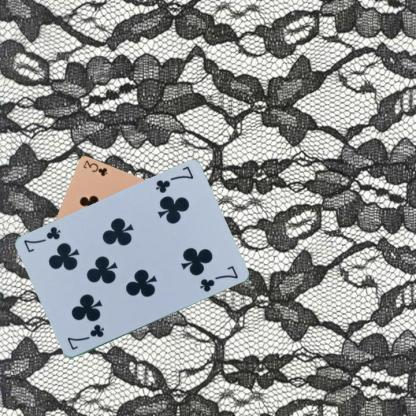7c: (152, 164, 194, 195), (64, 322, 105, 352)
